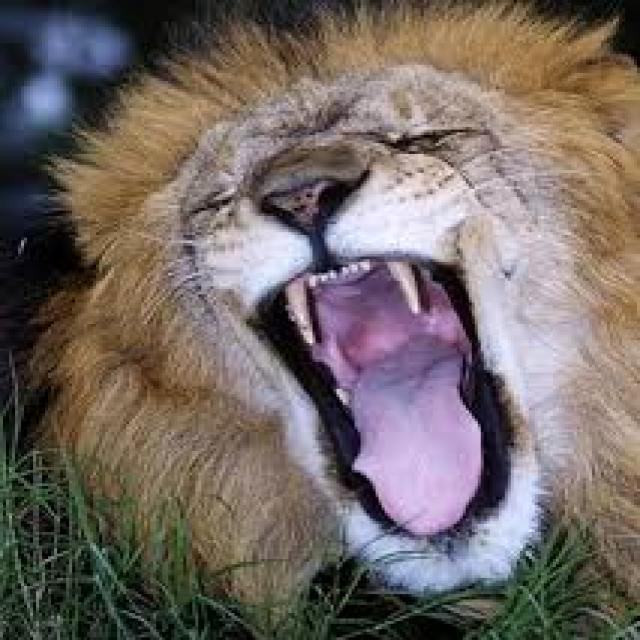Lion: (80, 35, 631, 584)
